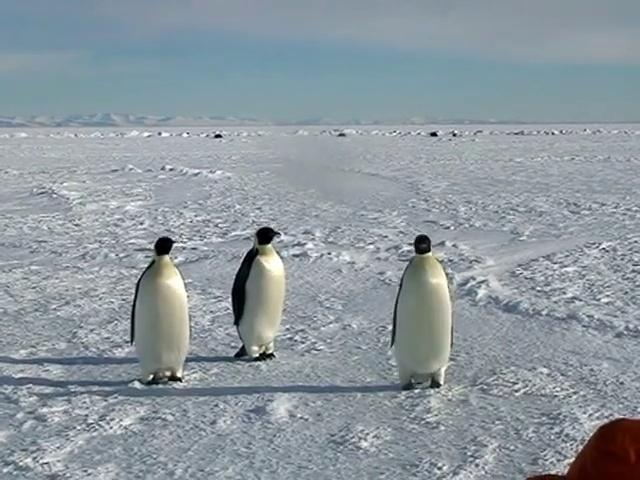animal: (392, 236, 454, 390)
